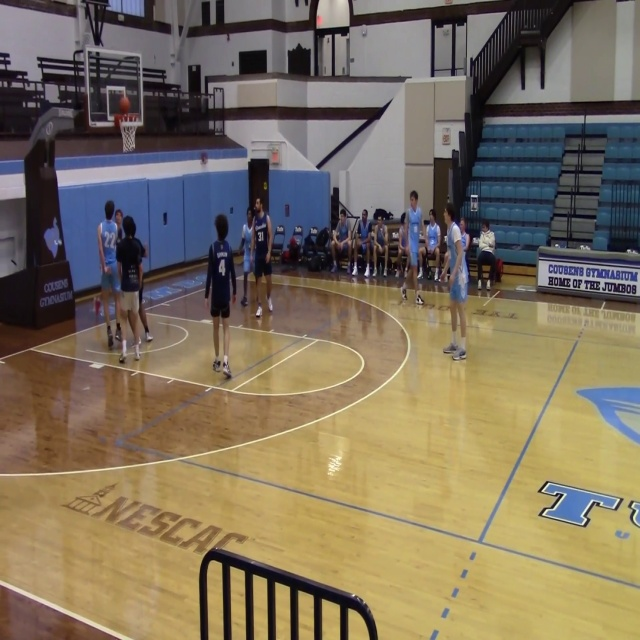Basketball: (119, 96, 130, 113)
